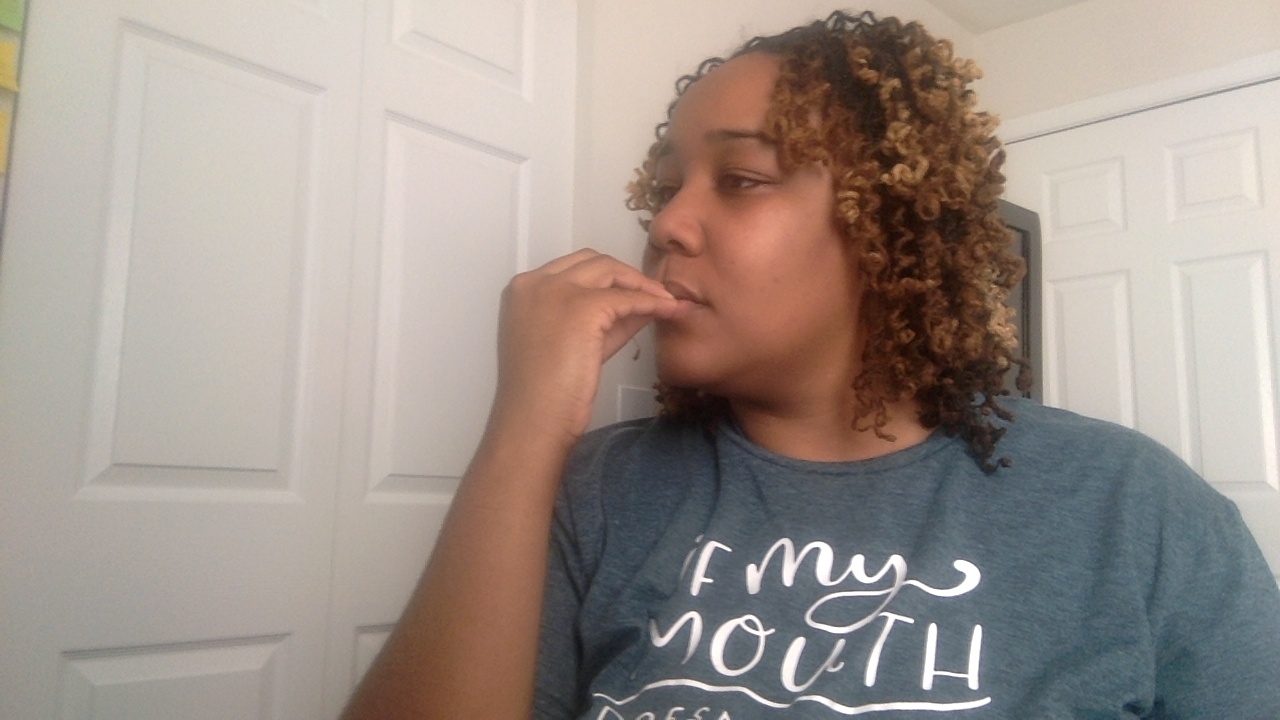eat: (462, 8, 1035, 484)
